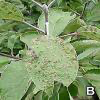Apple Scab Leaf: (24, 32, 82, 96)
